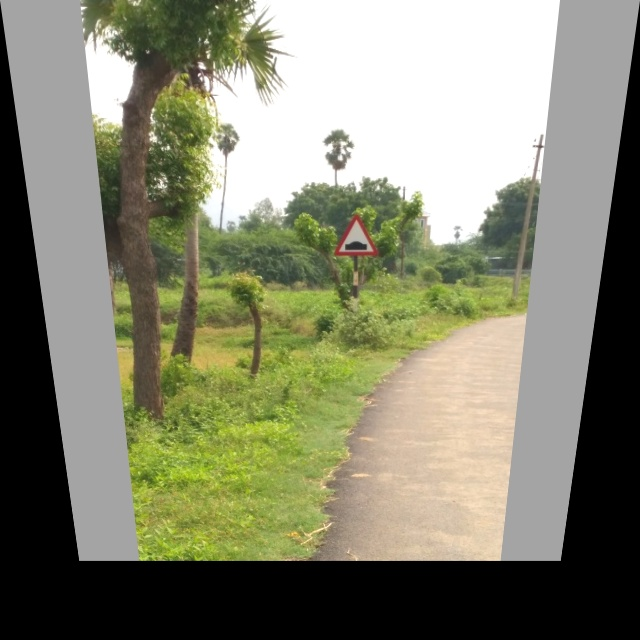Hump_or_Rough_Road: (329, 210, 381, 260)
